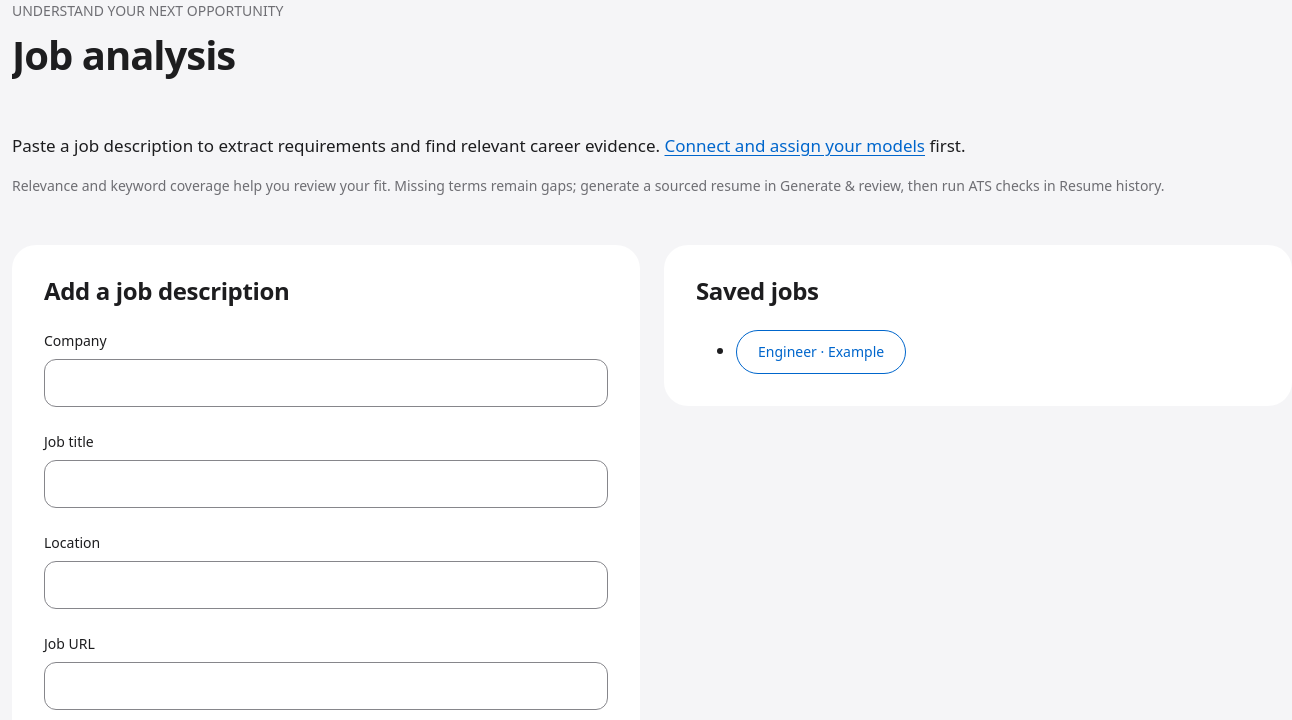
it: Phase 2 workflows › cancels generation and keeps the saved job ready to retry
Click the button "Engineer · Example": [821, 352] box 736,330 -> 906,374
(page scrolled)
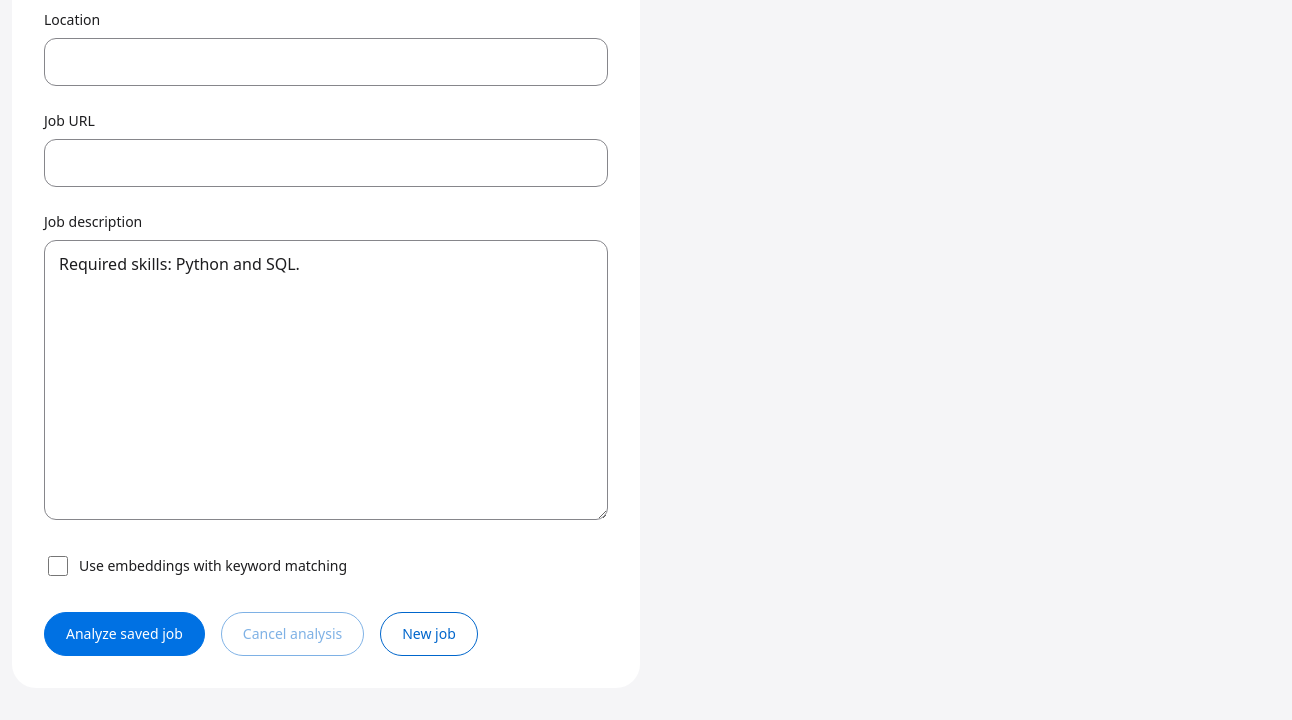
Click the button "Analyze saved job": [124, 634] box 44,612 -> 205,656
(page scrolled)
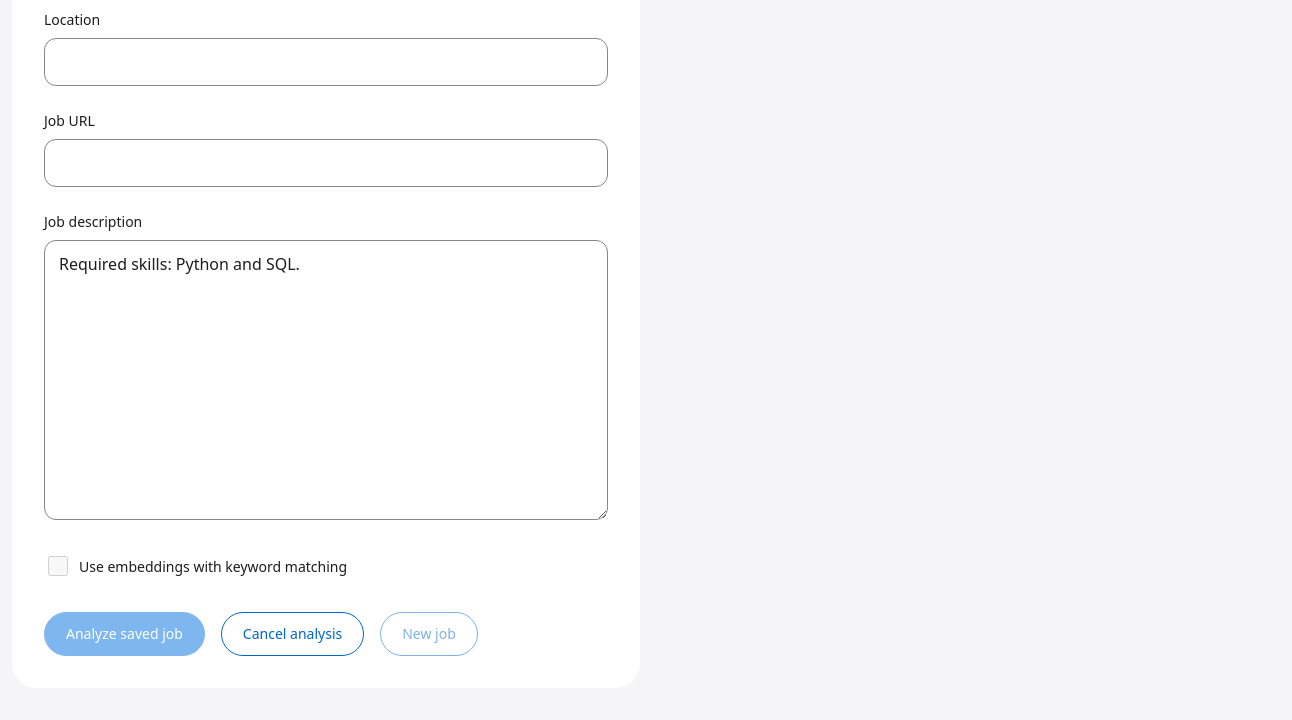
Click the button "Cancel analysis": [292, 634] box 221,612 -> 364,656
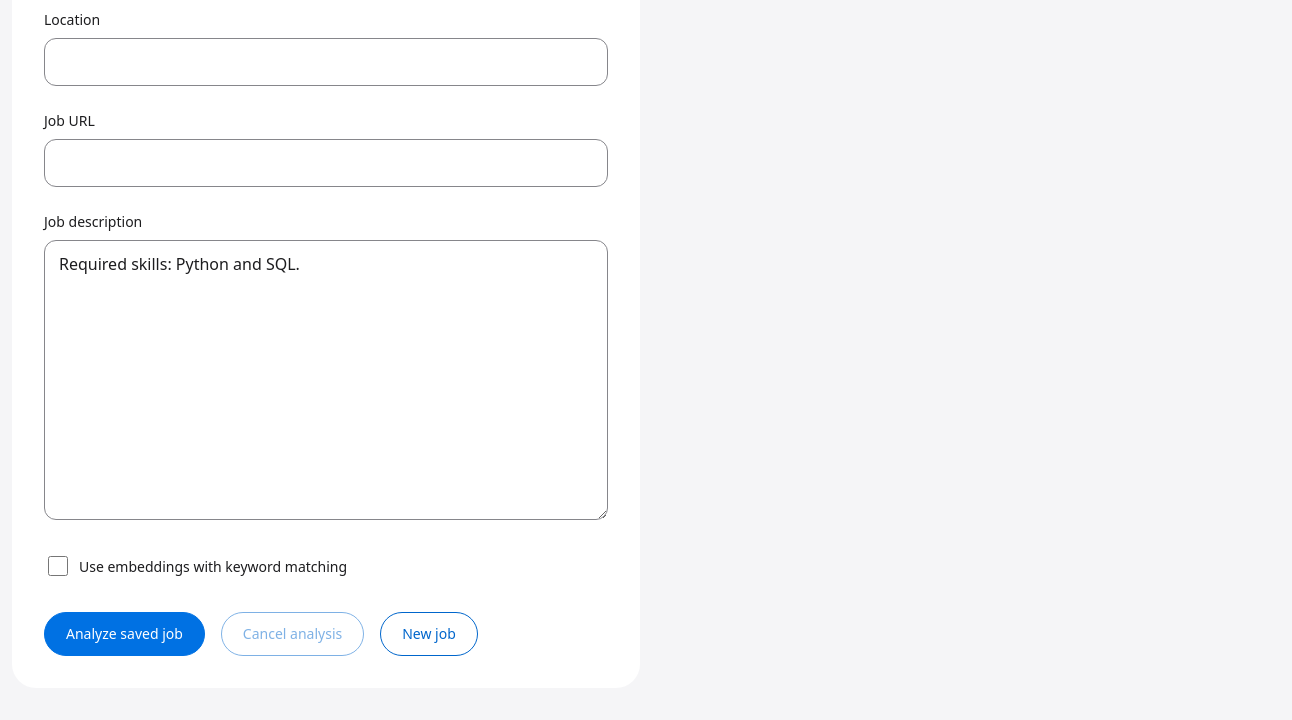
Expected: the button "Analyze saved job" is enabled, 44,612 -> 205,656
